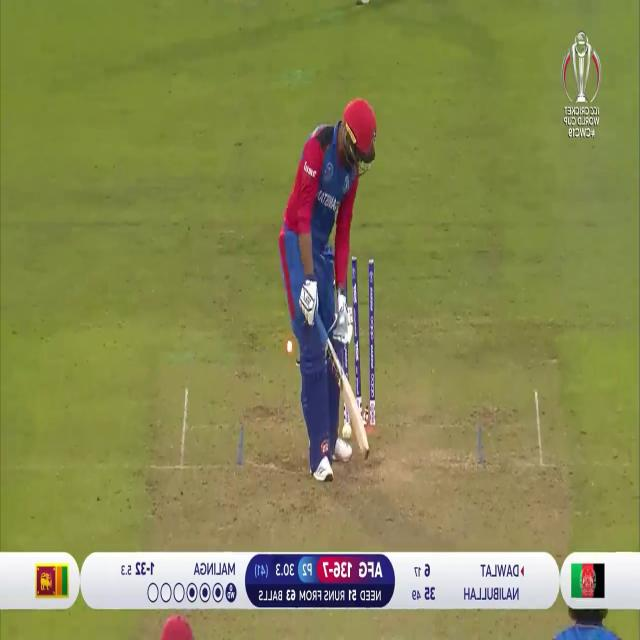ball: (342, 420, 352, 439)
